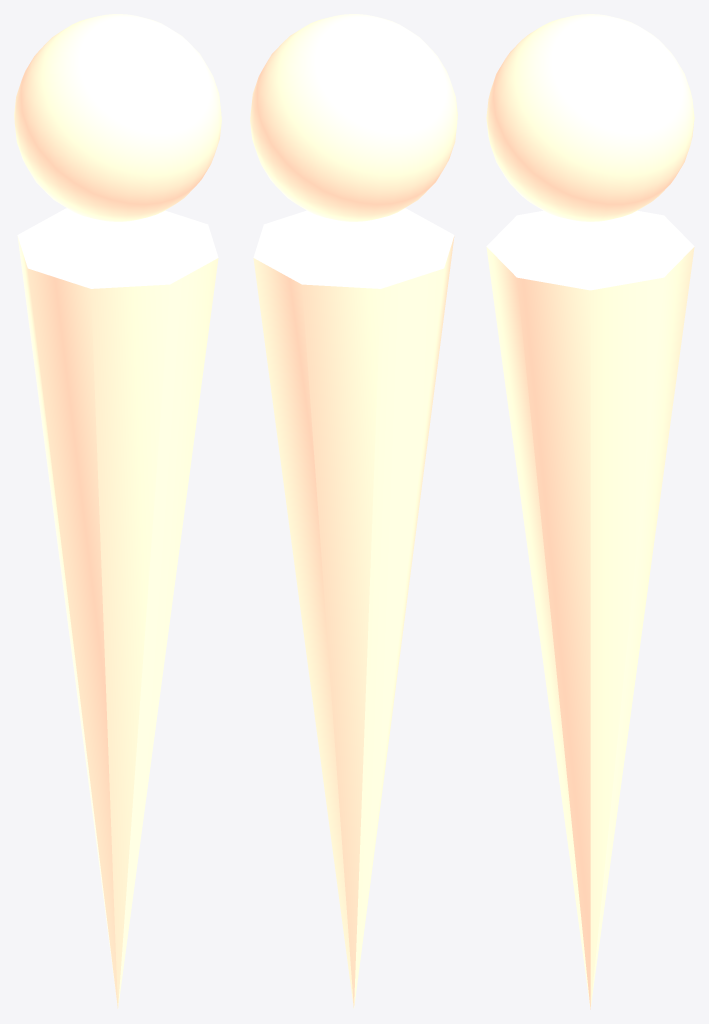
The picture shows the model from 3 angles, left to right: view 1: azimuth 30°, elevation 25°; view 2: azimuth 150°, elevation 25°; view 3: azimuth 270°, elevation 25°; orthographic projection.
Visible parts, largest first — view 1: Cylinder, Sphere; view 2: Cylinder, Sphere; view 3: Cylinder, Sphere.
Part boxes in pixels (x1,y1,x2,y2): Cylinder: (17,208,218,1008); Sphere: (14,14,221,221); Cylinder: (253,208,454,1008); Sphere: (250,14,457,221); Cylinder: (486,210,694,1009); Sphere: (486,14,694,221).
Bounding box in the file's own units: 0.6 × 3.14 × 0.6.
